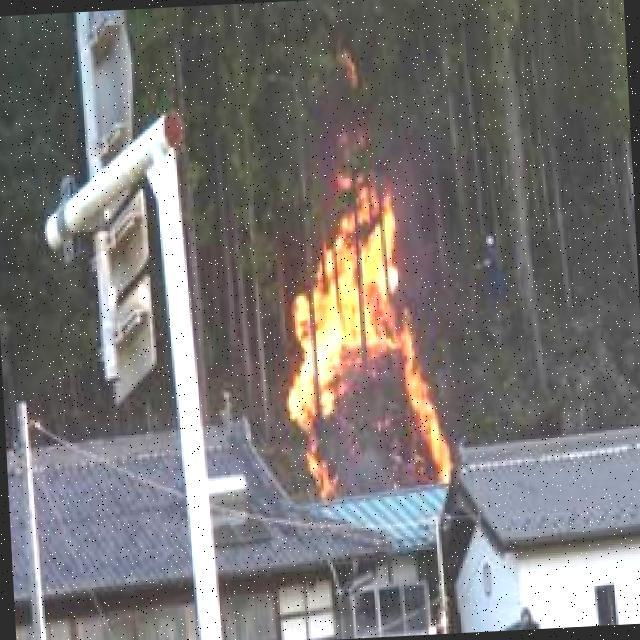Fire: (276, 171, 441, 499)
